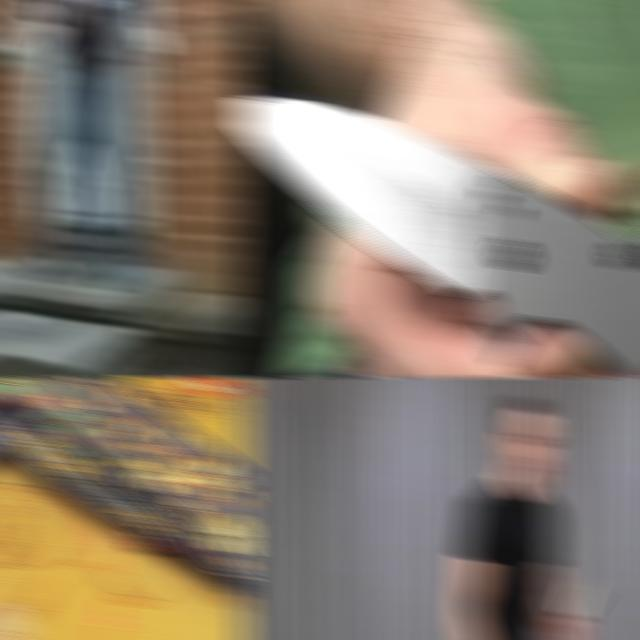Knife: (236, 97, 640, 378)
Knife_Handle: (551, 574, 592, 640), (38, 0, 86, 56), (552, 588, 601, 640)
